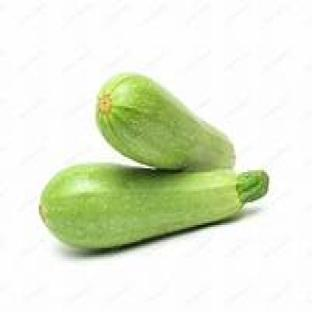Zucchini: (41, 165, 268, 247), (97, 74, 234, 170)
